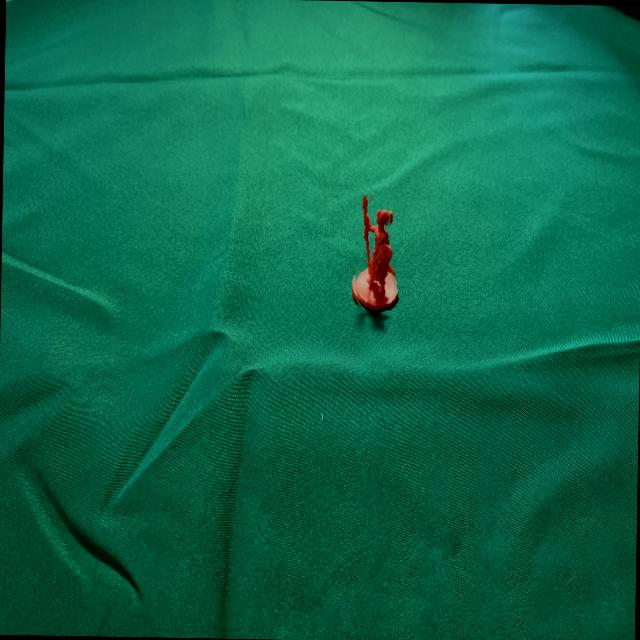amon_follower: (355, 194, 398, 311)
